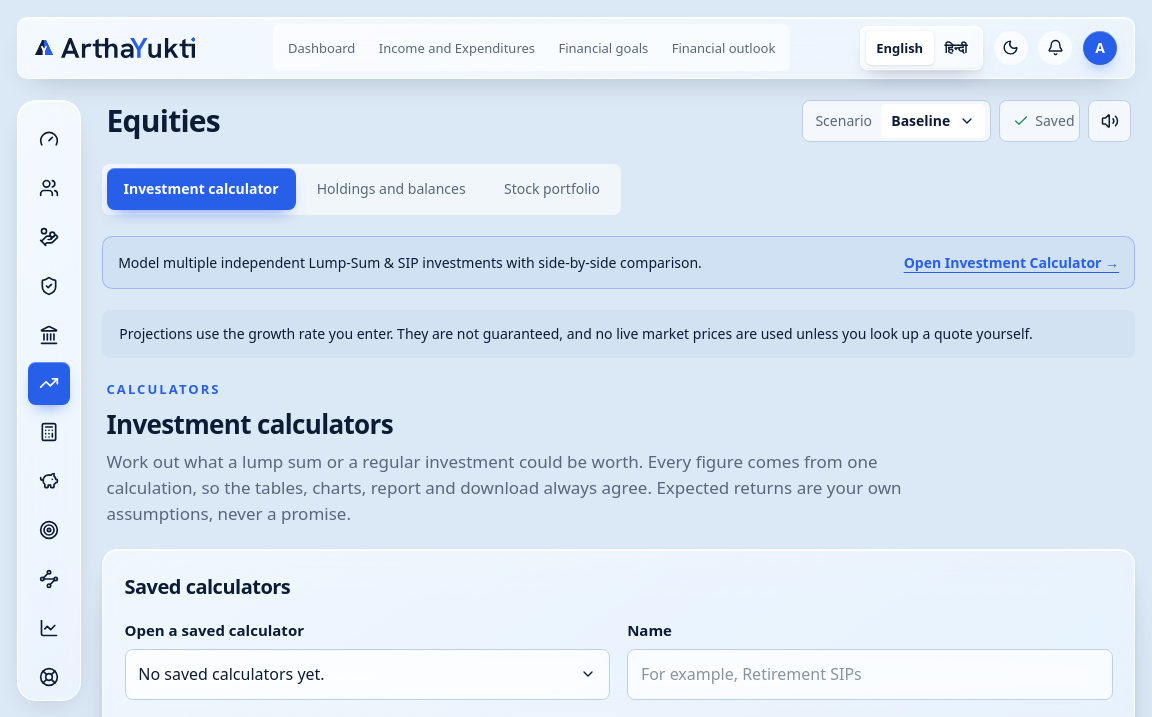
Test case: the portfolio page › is a tab of Equities and shows the holding, what was invested, the value and the profit
Click the button "Stock portfolio": (552, 189) [487,168,617,210]
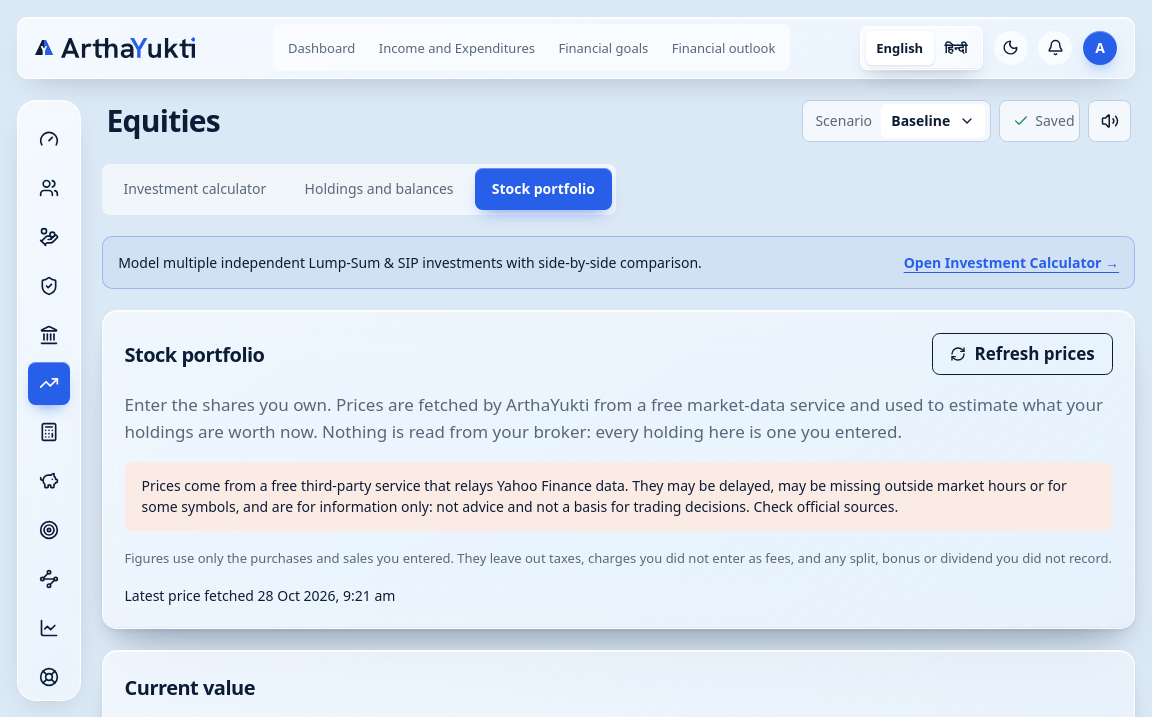
Check: the heading "Stock portfolio" is shown, box [124,339,264,370]
Check: the text "may be delayed, may be missing outside market hours" is shown, box [142,476,1067,516]
Check: the text "Nothing is read from your broker" is shown, box [124,393,1103,442]
